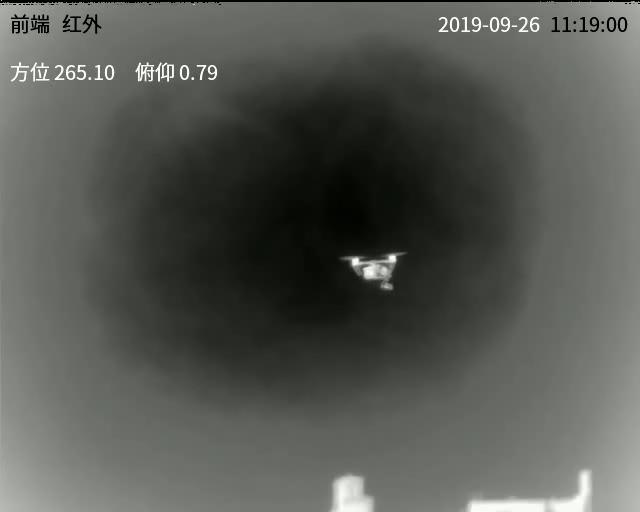uav: (331, 248, 410, 295)
